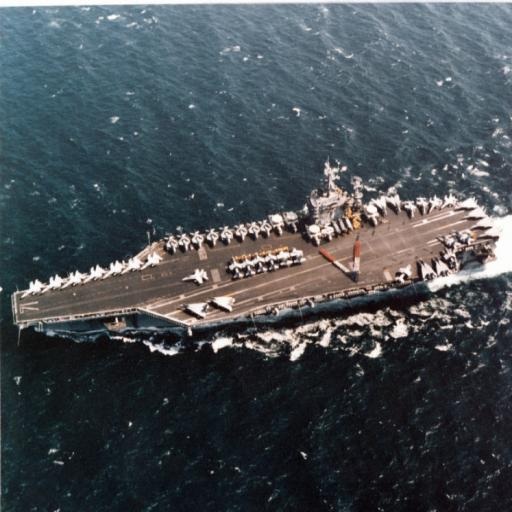Portanaves: (12, 154, 504, 348)
